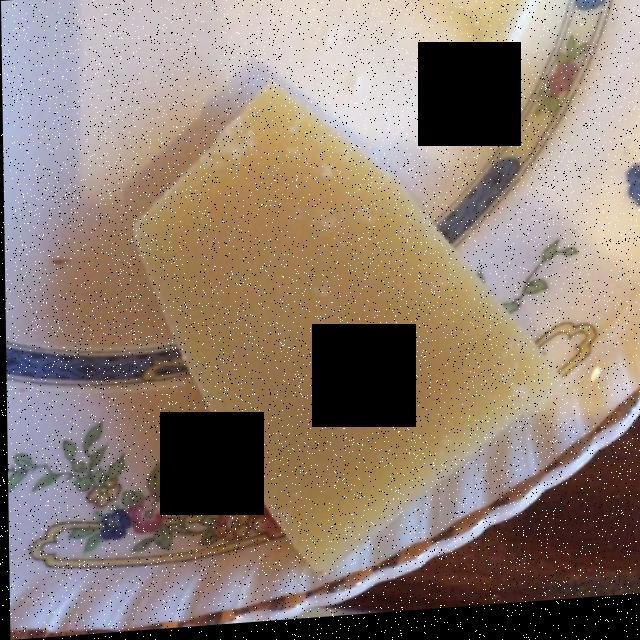gruyere: (145, 100, 535, 555)
